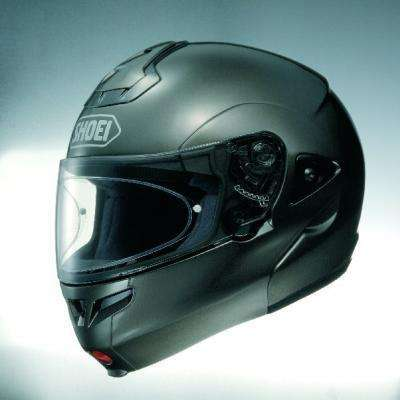helmet: (37, 23, 373, 378)
